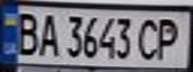3: (63, 11, 84, 58), (115, 15, 136, 61)
4: (97, 13, 118, 60)
6: (81, 12, 100, 60)
A: (36, 10, 60, 57)
B: (9, 9, 42, 56)
C: (136, 15, 163, 61)
P: (151, 15, 187, 61)
